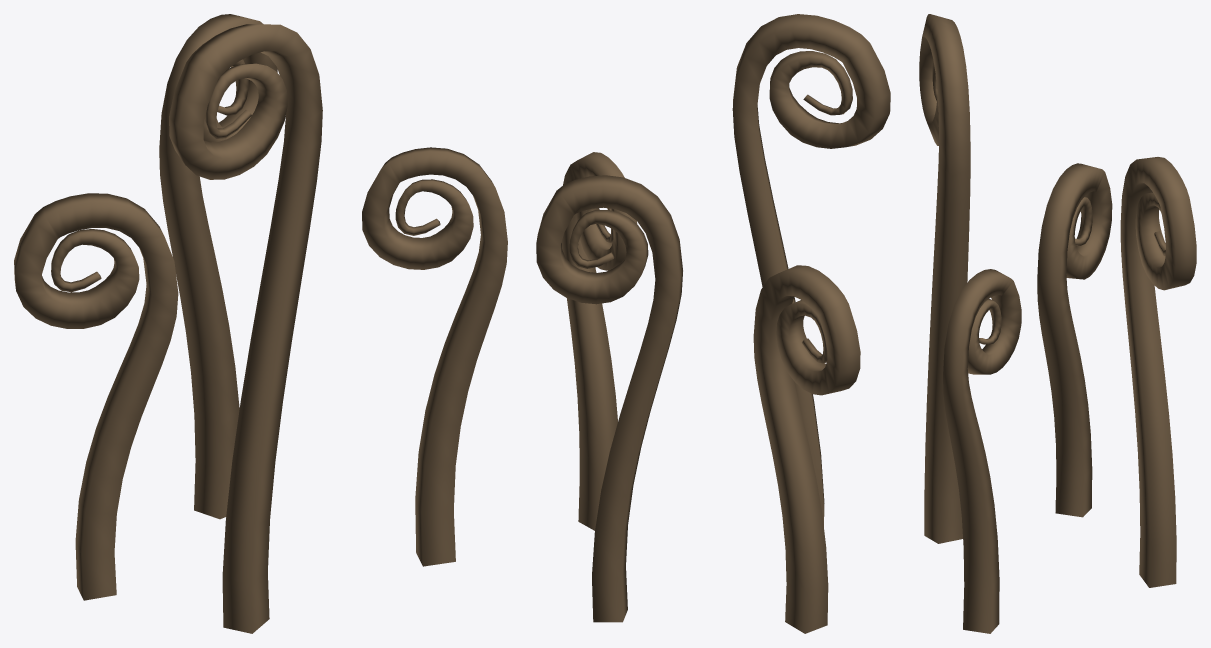
The model's file is decor-plant3.glb.
3 renders of one model, left to right at view 1: azimuth 30°, elevation 25°; view 2: azimuth 150°, elevation 25°; view 3: azimuth 270°, elevation 25°, orthographic. The views are drawn at different scales.
Visible parts, largest first — view 1: Plant_3; view 2: Plant_3; view 3: Plant_3.
Boxes of the visible parts, left/top/right/bottom form: Plant_3: left=14, top=14, right=507, bottom=633; Plant_3: left=536, top=14, right=890, bottom=633; Plant_3: left=919, top=14, right=1196, bottom=633.
Size of the model in its own units: 2.14 by 3 by 1.45.
1 material, 1 textured.
